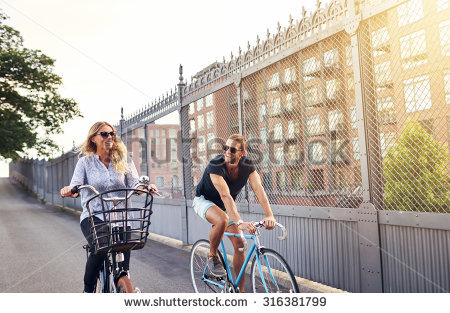bikerider: (191, 130, 299, 294), (63, 113, 149, 292)
